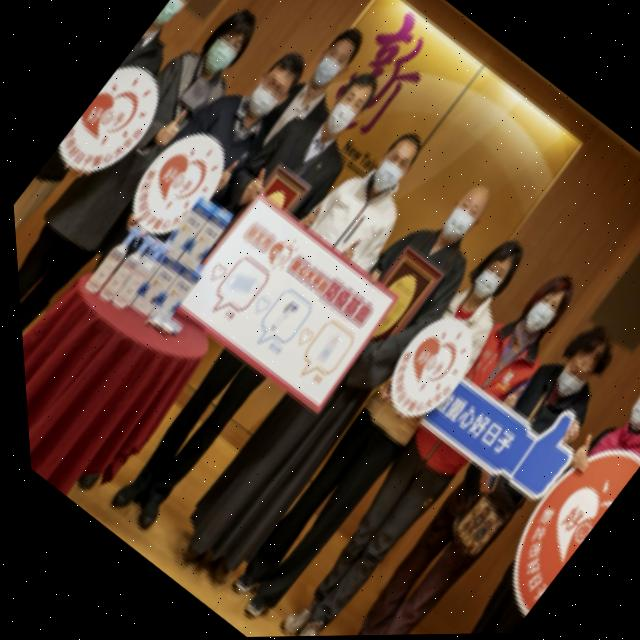Mask: (312, 102, 361, 150), (360, 158, 406, 204), (193, 35, 239, 79), (432, 203, 477, 247), (304, 56, 346, 97), (512, 300, 554, 341), (240, 83, 280, 122), (461, 265, 501, 304), (542, 368, 580, 403), (150, 0, 190, 32), (613, 394, 640, 439)
